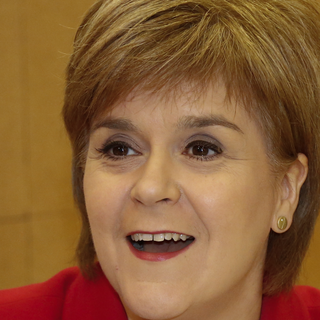eye: (179, 136, 229, 164), (96, 136, 144, 164)
